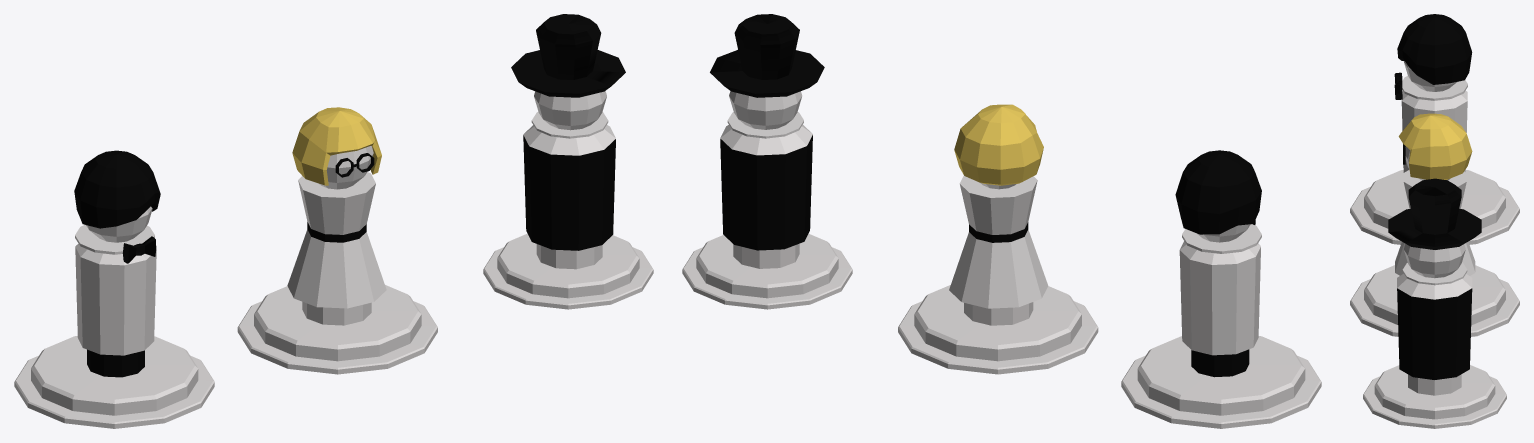
The model's file is characters11.fbx.
The picture shows the model from 3 angles, left to right: view 1: azimuth 30°, elevation 25°; view 2: azimuth 150°, elevation 25°; view 3: azimuth 270°, elevation 25°; orthographic projection. The views are drawn at different scales.
Visible parts, largest first — view 1: pCylinder9, pCylinder10, pCylinder4, pCylinder11, pCylinder13, pCylinder8, pCylinder5, pSphere4, polySurface4, pSphere1, polySurface1, pCylinder12 (+2 smaller); view 2: pCylinder9, pCylinder10, pCylinder4, pCylinder11, pCylinder13, pCylinder8, pCylinder5, pSphere4, polySurface4, pSphere1, pCylinder12, pCylinder6; view 3: pCylinder4, pCylinder8, pCylinder9, pCylinder10, pCylinder5, pSphere4, polySurface4, pSphere1, pCylinder13, pCylinder11, pCylinder12, pCylinder6 (+2 smaller).
Part boxes in pixels (left/top/right/bottom): pCylinder9: left=14, top=336, right=214, bottom=428; pCylinder10: left=237, top=285, right=437, bottom=374; pCylinder4: left=523, top=125, right=615, bottom=269; pCylinder11: left=287, top=172, right=386, bottom=325; pCylinder13: left=75, top=244, right=156, bottom=377; pCylinder8: left=483, top=233, right=653, bottom=309; pCylinder5: left=511, top=14, right=625, bottom=97; pSphere4: left=74, top=150, right=160, bottom=228; polySurface4: left=292, top=107, right=381, bottom=185; pSphere1: left=534, top=91, right=606, bottom=130; polySurface1: left=319, top=146, right=373, bottom=189; pCylinder12: left=75, top=225, right=154, bottom=254; pCylinder9: left=1121, top=336, right=1321, bottom=428; pCylinder10: left=898, top=285, right=1098, bottom=374; pCylinder4: left=720, top=124, right=812, bottom=268; pCylinder11: left=949, top=175, right=1048, bottom=325; pCylinder13: left=1179, top=241, right=1260, bottom=377; pCylinder8: left=682, top=233, right=852, bottom=309; pCylinder5: left=710, top=14, right=824, bottom=97; pSphere4: left=1175, top=150, right=1261, bottom=234; polySurface4: left=954, top=104, right=1043, bottom=185; pSphere1: left=729, top=91, right=802, bottom=129; pCylinder12: left=1182, top=224, right=1261, bottom=253; pCylinder6: left=727, top=112, right=803, bottom=138; pCylinder4: left=1397, top=273, right=1472, bottom=395; pCylinder8: left=1363, top=365, right=1506, bottom=428; pCylinder9: left=1350, top=170, right=1519, bottom=244; pCylinder10: left=1350, top=265, right=1519, bottom=336; pCylinder5: left=1388, top=178, right=1481, bottom=249; pSphere4: left=1397, top=14, right=1472, bottom=84; polySurface4: left=1398, top=113, right=1472, bottom=179; pSphere1: left=1403, top=244, right=1465, bottom=278; pCylinder13: left=1401, top=90, right=1467, bottom=172; pCylinder11: left=1395, top=169, right=1475, bottom=275; pCylinder12: left=1402, top=76, right=1467, bottom=100; pCylinder6: left=1402, top=262, right=1467, bottom=285.
Bounding box in the file's own units: 36.33 × 14.22 × 10.26.
